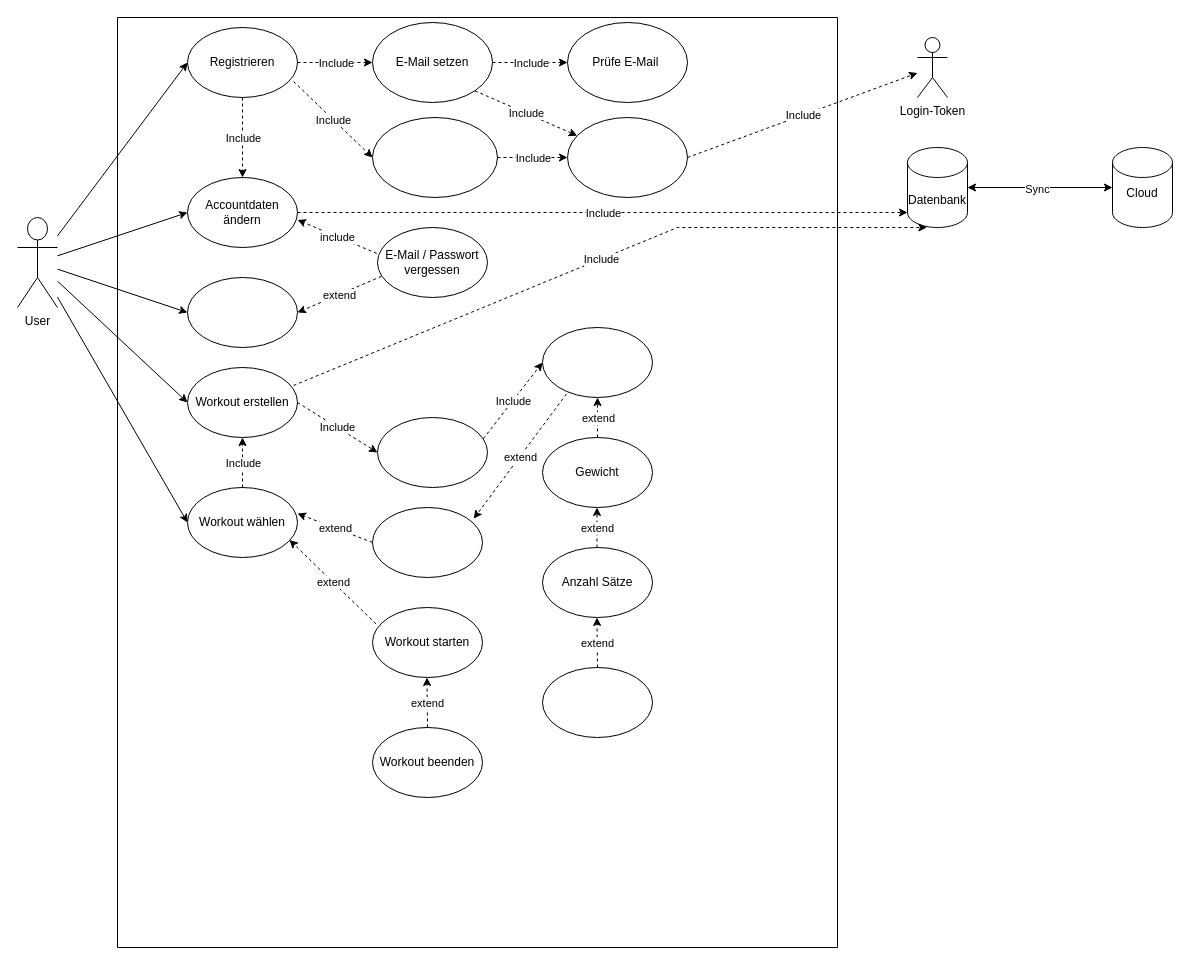
The diagram is 1190 pixels wide and 965 high, and some of its shapes have lost their labels. The box of each missing label's shape, as (x1, y1, x2, y2) in pixels:
Anzahl Wiederholungen: (542, 666, 652, 738)
Einstellungen: (372, 506, 482, 578)
Login: (186, 276, 298, 348)
Login-Token erzeugen: (566, 116, 688, 198)
Passwort setzen: (372, 116, 498, 198)
Split wählen: (376, 416, 488, 488)
Übung Auswählen: (542, 326, 652, 398)
